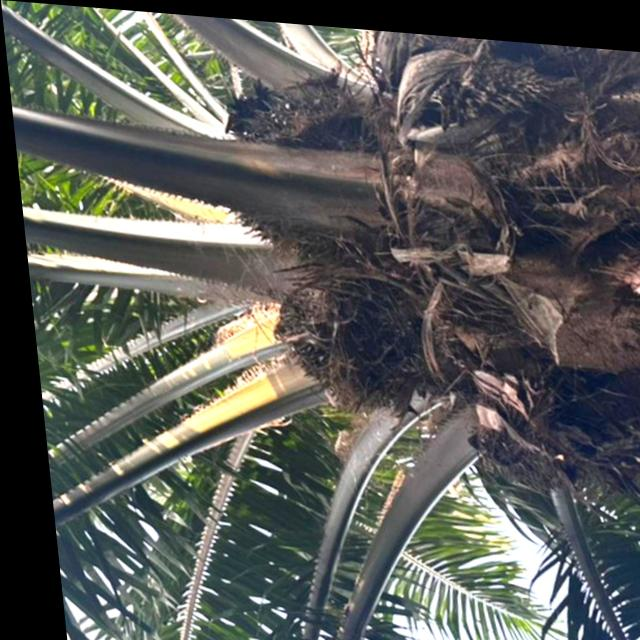unripe: (252, 244, 430, 426)
